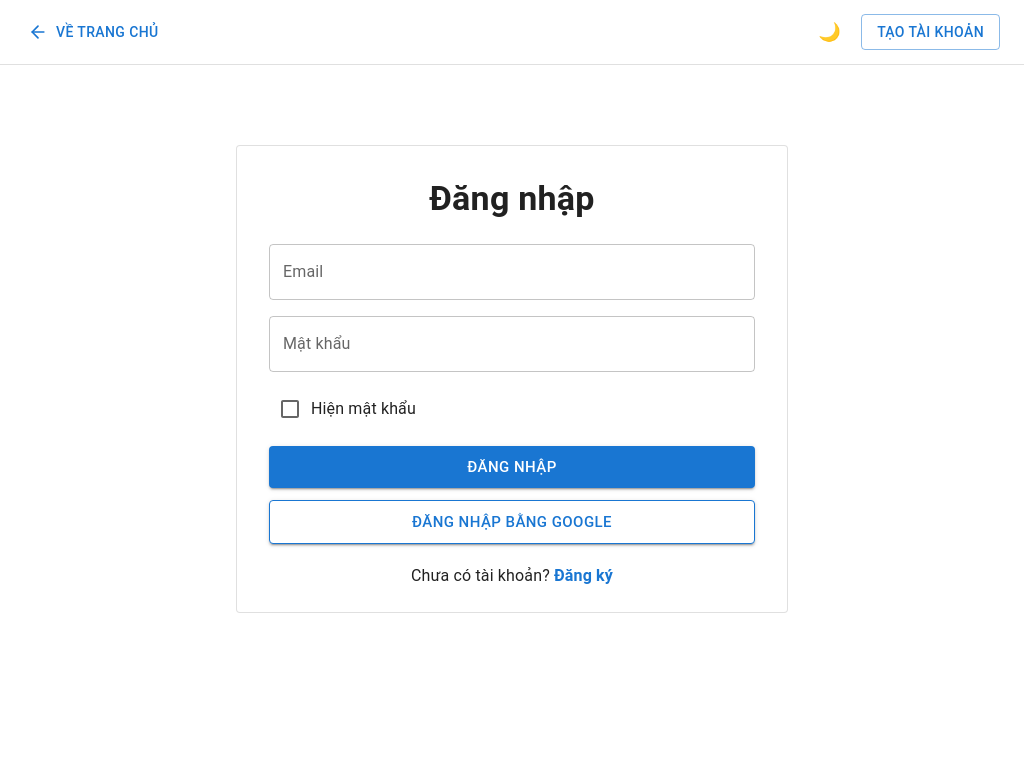
Test: LoginPage › shows validation error when fields are empty
What coordinates should you click on to do the following:
click the button "Đăng nhập"
I would click on:
 (512, 467)
Its box is top-left (269, 446), bottom-right (755, 488).
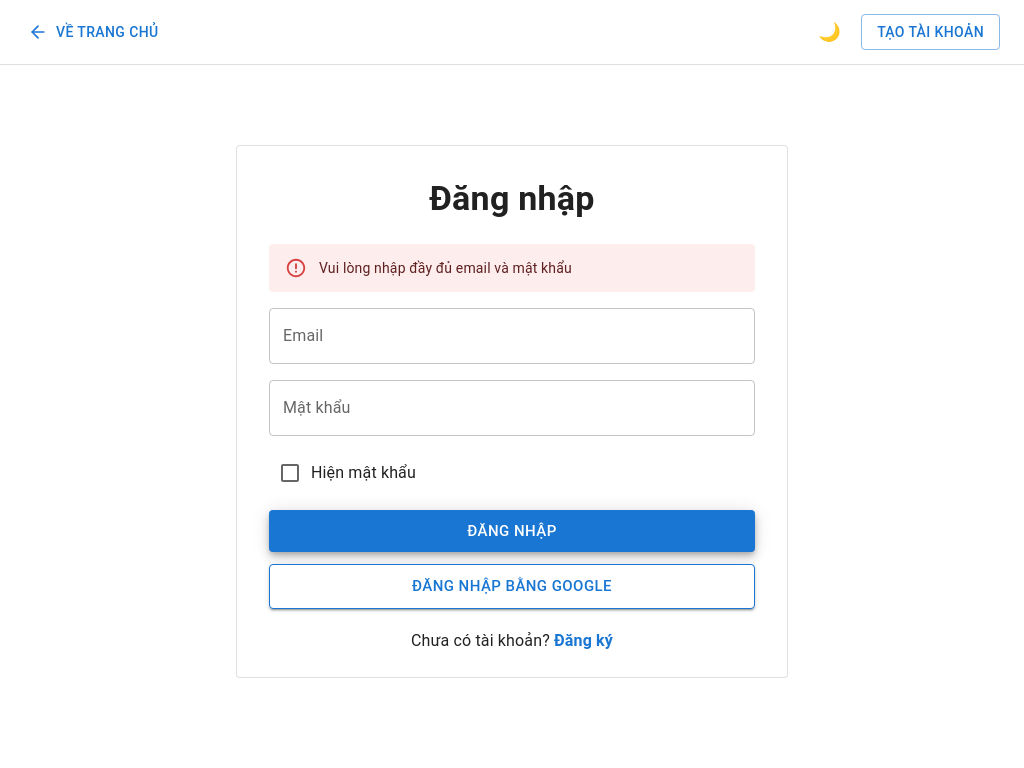
Check: the message reads "Vui lòng nhập đầy đủ email và mật khẩu", box top-left (319, 260), bottom-right (572, 276)
